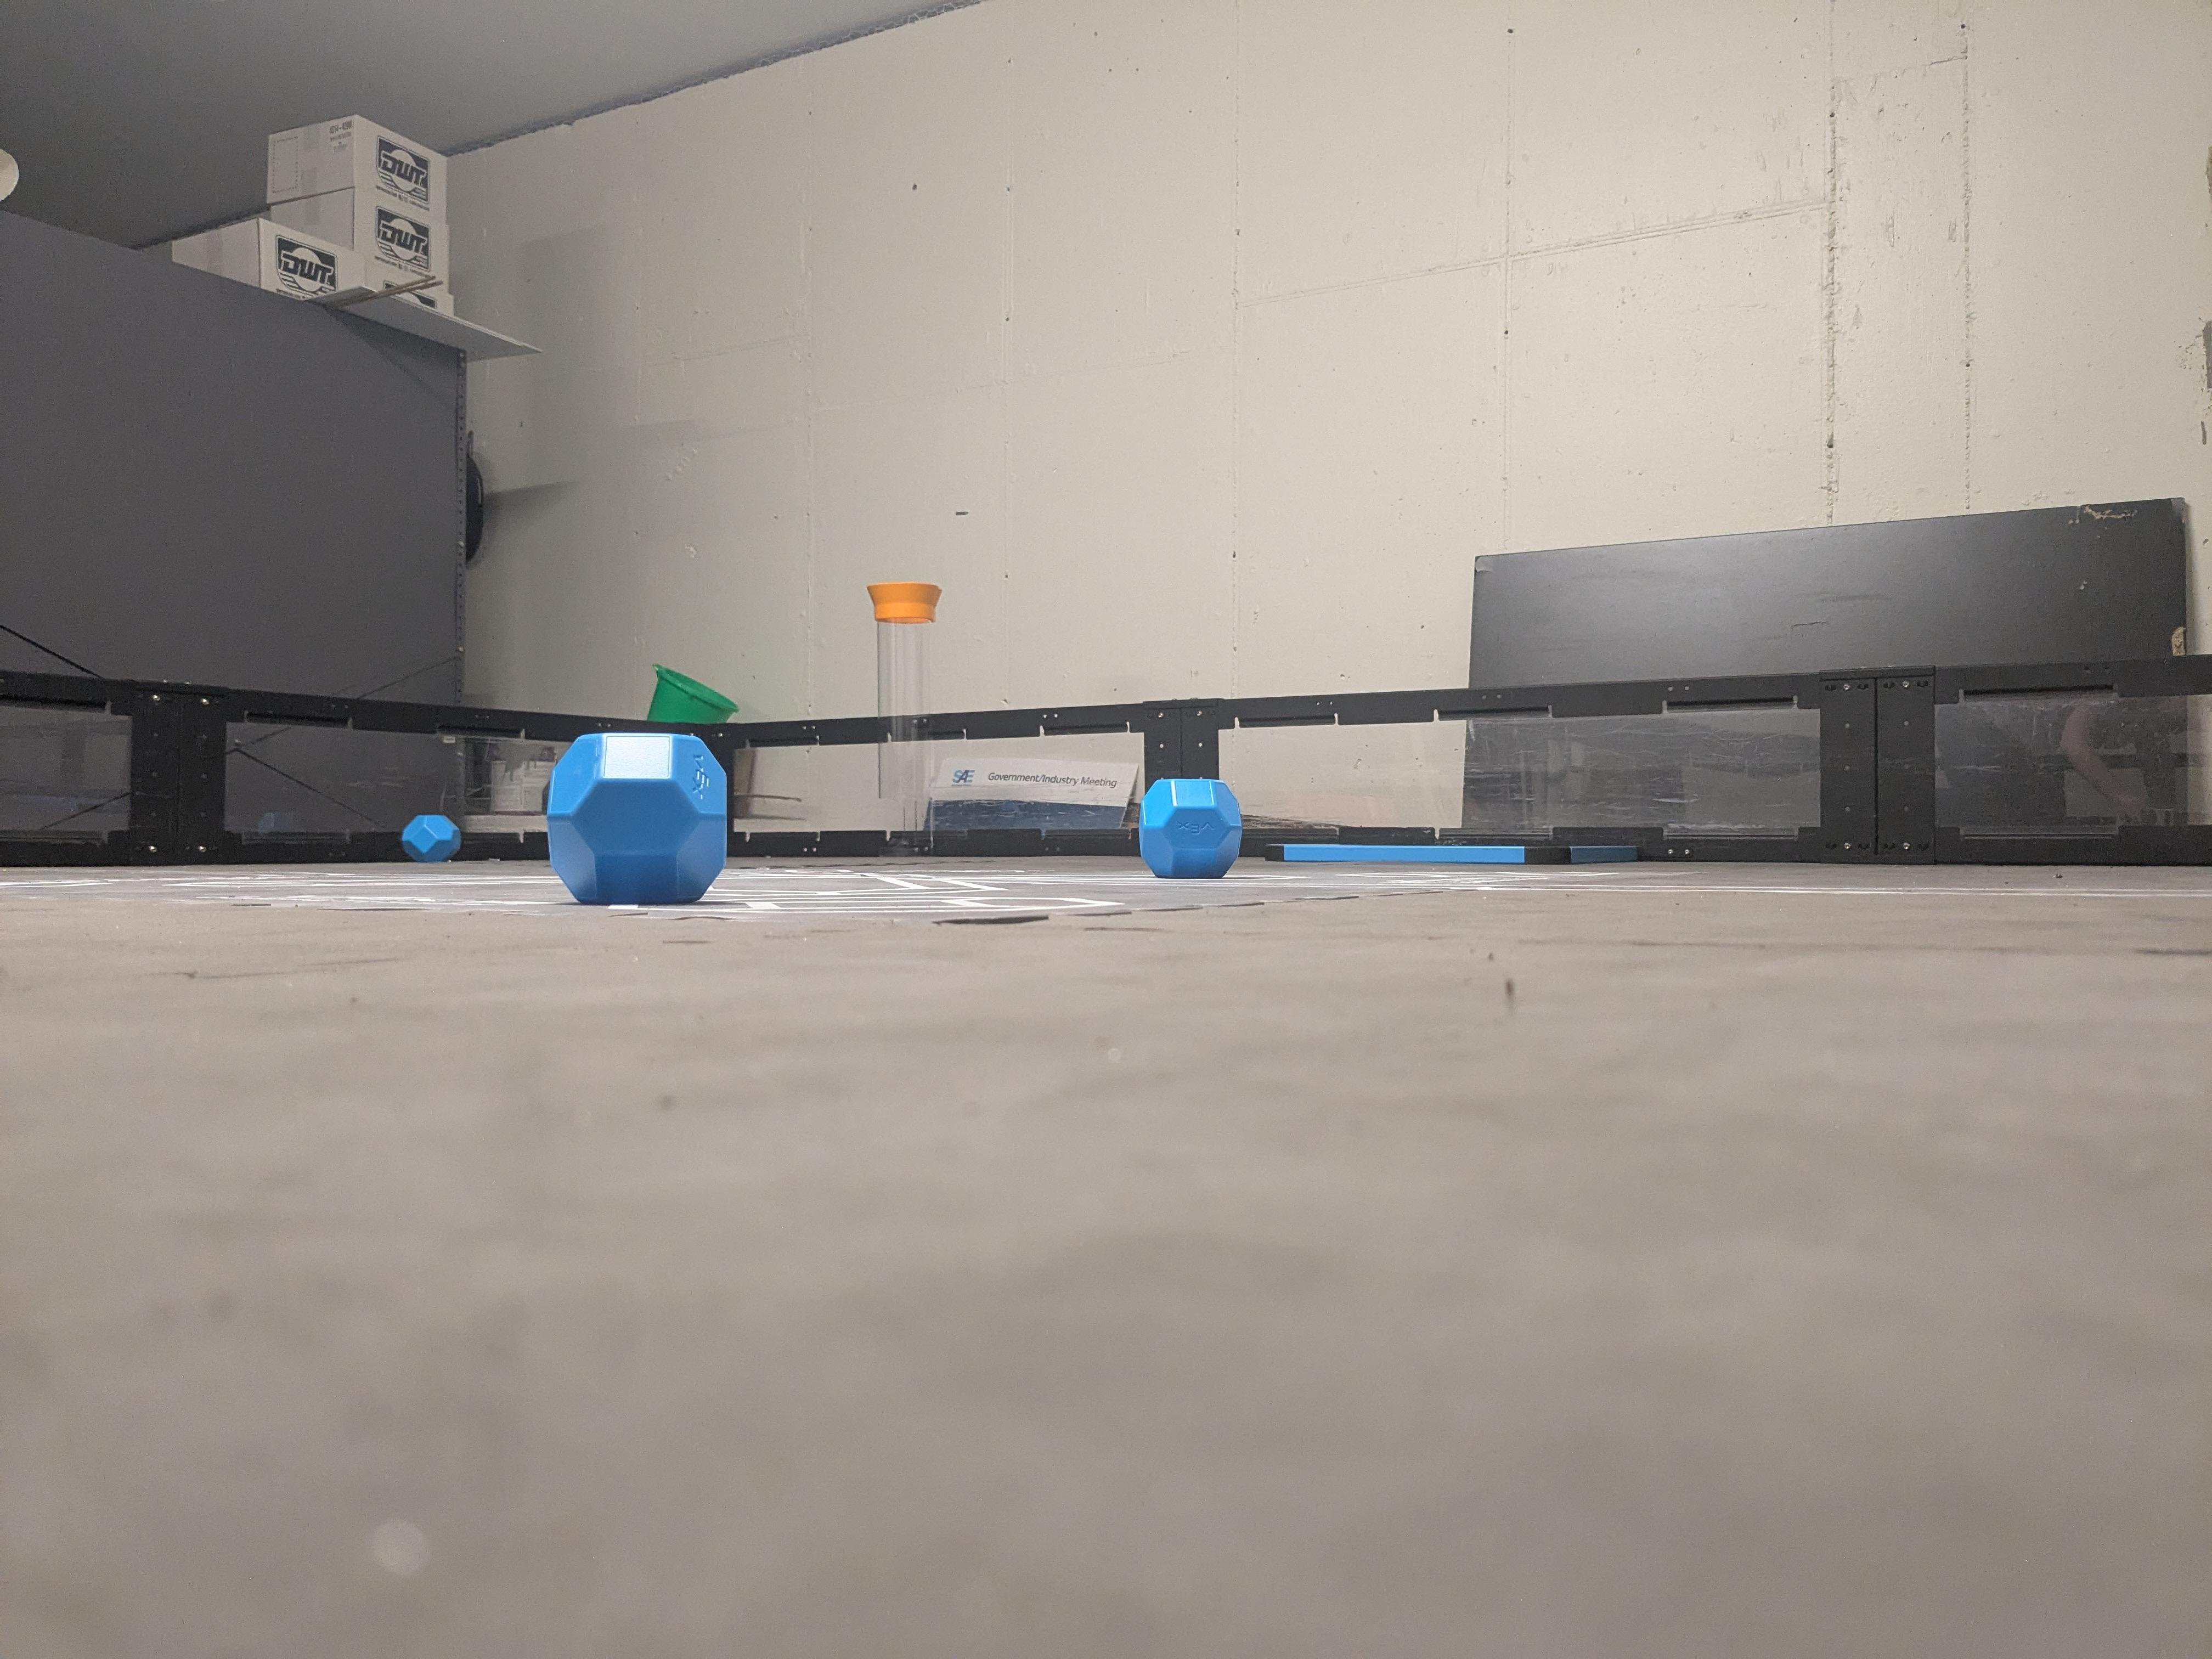Vex-Pieces-BLUE: (545, 735, 728, 899), (1141, 781, 1240, 878), (401, 816, 460, 863)
